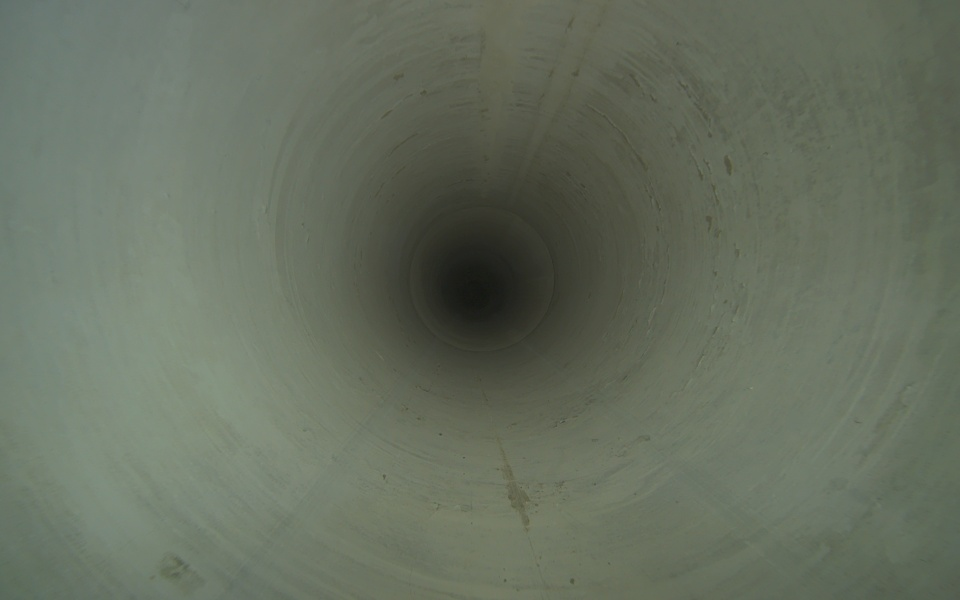circle1: (402, 202, 559, 357)
circle2: (457, 271, 496, 308)
